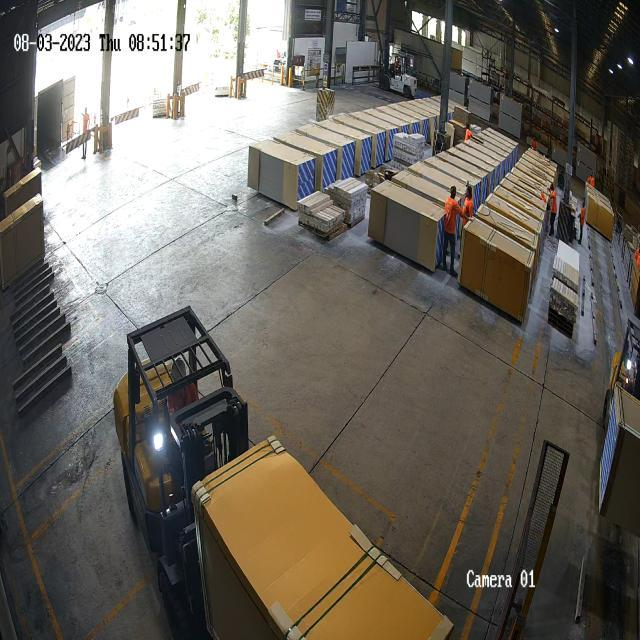driver: (164, 362, 200, 412)
forklift: (109, 296, 254, 640), (378, 50, 417, 98)
person: (443, 182, 458, 280), (548, 178, 558, 238), (462, 181, 473, 230), (578, 198, 586, 241), (80, 106, 90, 134), (464, 124, 472, 142)
